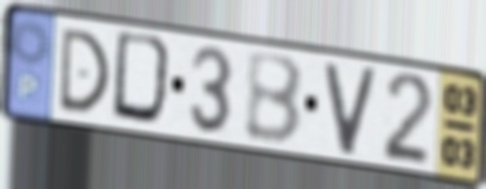2: (383, 69, 436, 169)
3: (187, 44, 238, 138)
B: (244, 51, 307, 149)
D: (109, 28, 179, 132), (56, 25, 113, 115)
V: (321, 59, 381, 159)
